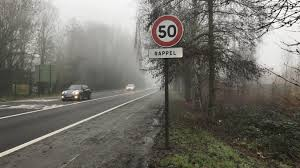Speed_limit_50km: (151, 14, 184, 47)
car: (60, 81, 94, 103)
